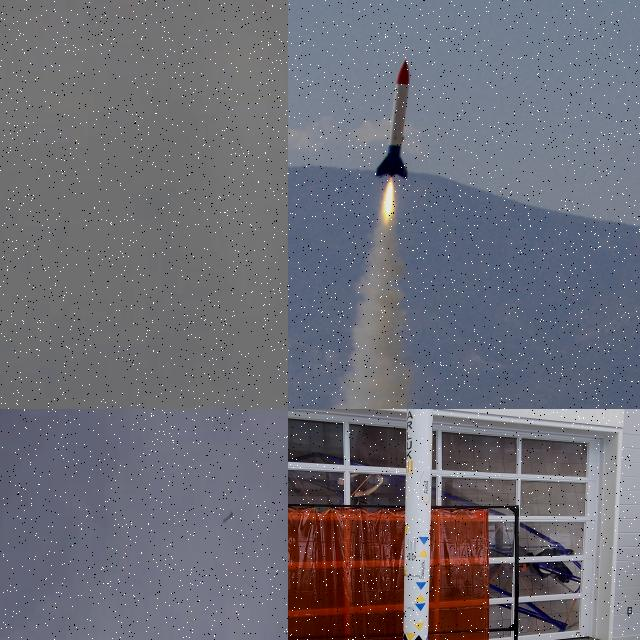Rocket: (403, 409, 433, 640), (376, 59, 410, 181), (223, 510, 234, 524)
